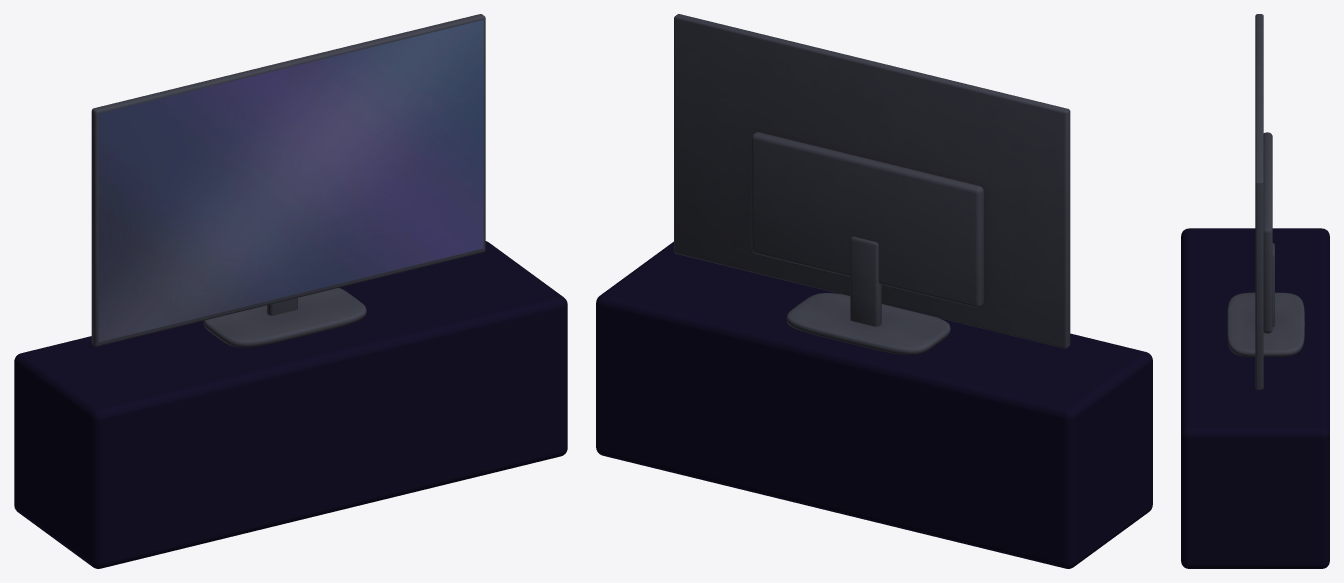
Rendered from flatpanel-tv.glb.
3 views of the same model, side by side, from view 1: azimuth 30°, elevation 25°; view 2: azimuth 150°, elevation 25°; view 3: azimuth 270°, elevation 25° (orthographic). The views are drawn at different scales.
Parts seen in each view (by area): view 1: television_plinth, television_screen, television_body; view 2: television_plinth, television_body; view 3: television_plinth, television_body.
Part boxes in pixels (box(x1,y1,x2,y2)): television_plinth: box(14, 241, 567, 568); television_screen: box(98, 20, 483, 341); television_body: box(91, 14, 485, 347); television_plinth: box(596, 241, 1152, 568); television_body: box(674, 14, 1070, 355); television_plinth: box(1181, 228, 1329, 568); television_body: box(1227, 14, 1304, 389).
Bounding box in the file's own units: 1.5 × 1.27 × 0.46.
Materials: 3 (2 with a texture image).
